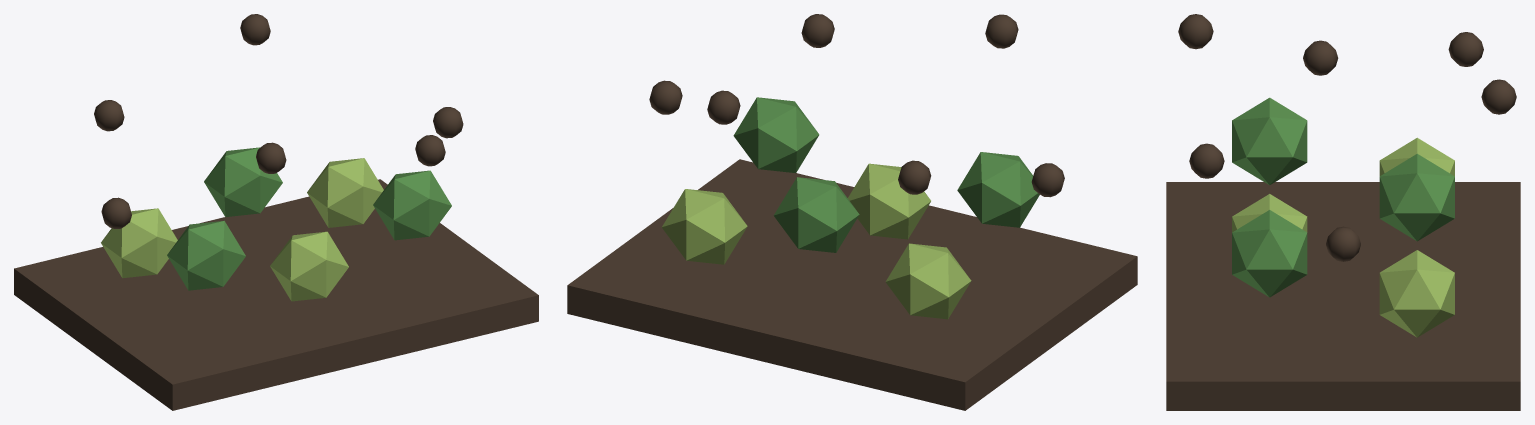
The model's file is butterfly_garden.glb.
The picture shows the model from 3 angles, left to right: view 1: azimuth 30°, elevation 25°; view 2: azimuth 150°, elevation 25°; view 3: azimuth 270°, elevation 25°; orthographic projection. The views are drawn at different scales.
Parts seen in each view (by area): view 1: habitat_base, flower_4, flower_3, flower_5, flower_2, flower_0, flower_1, pollinator_4, pollinator_5, pollinator_0, pollinator_1, pollinator_2 (+1 smaller); view 2: habitat_base, flower_0, flower_5, flower_1, flower_2, flower_3, flower_4, pollinator_2, pollinator_5, pollinator_0, pollinator_3, pollinator_1 (+1 smaller); view 3: habitat_base, flower_1, flower_5, flower_2, flower_3, flower_0, flower_4, pollinator_2, pollinator_1, pollinator_3, pollinator_5, pollinator_0 (+1 smaller).
Part boxes in pixels (x1=…): habitat_base: x1=14, y1=179, x2=538, y2=410; flower_4: x1=270, y1=231, x2=348, y2=301; flower_3: x1=167, y1=220, x2=245, y2=290; flower_5: x1=373, y1=170, x2=451, y2=240; flower_2: x1=307, y1=158, x2=383, y2=227; flower_0: x1=101, y1=208, x2=177, y2=278; flower_1: x1=204, y1=147, x2=282, y2=216; pollinator_4: x1=94, y1=100, x2=124, y2=131; pollinator_5: x1=240, y1=14, x2=270, y2=45; pollinator_0: x1=433, y1=107, x2=463, y2=138; pollinator_1: x1=415, y1=135, x2=445, y2=166; pollinator_2: x1=256, y1=142, x2=286, y2=173; habitat_base: x1=567, y1=159, x2=1137, y2=410; flower_0: x1=885, y1=243, x2=971, y2=319; flower_5: x1=733, y1=97, x2=819, y2=173; flower_1: x1=773, y1=177, x2=859, y2=252; flower_2: x1=661, y1=189, x2=747, y2=264; flower_3: x1=957, y1=152, x2=1039, y2=227; flower_4: x1=847, y1=163, x2=930, y2=239; pollinator_2: x1=985, y1=14, x2=1018, y2=48; pollinator_5: x1=707, y1=90, x2=740, y2=124; pollinator_0: x1=649, y1=80, x2=682, y2=114; pollinator_3: x1=1031, y1=163, x2=1064, y2=197; pollinator_1: x1=801, y1=14, x2=834, y2=47; habitat_base: x1=1166, y1=182, x2=1520, y2=410; flower_1: x1=1379, y1=153, x2=1454, y2=241; flower_5: x1=1232, y1=210, x2=1307, y2=297; flower_2: x1=1379, y1=250, x2=1454, y2=337; flower_3: x1=1232, y1=97, x2=1307, y2=185; flower_0: x1=1379, y1=137, x2=1454, y2=176; flower_4: x1=1232, y1=194, x2=1307, y2=232; pollinator_2: x1=1178, y1=14, x2=1213, y2=49; pollinator_1: x1=1189, y1=143, x2=1224, y2=178; pollinator_3: x1=1303, y1=40, x2=1338, y2=75; pollinator_5: x1=1481, y1=79, x2=1516, y2=114; pollinator_0: x1=1326, y1=226, x2=1360, y2=261.
Size of what is drawn, in the model's own units: 3.22 by 1.92 by 2.4.
